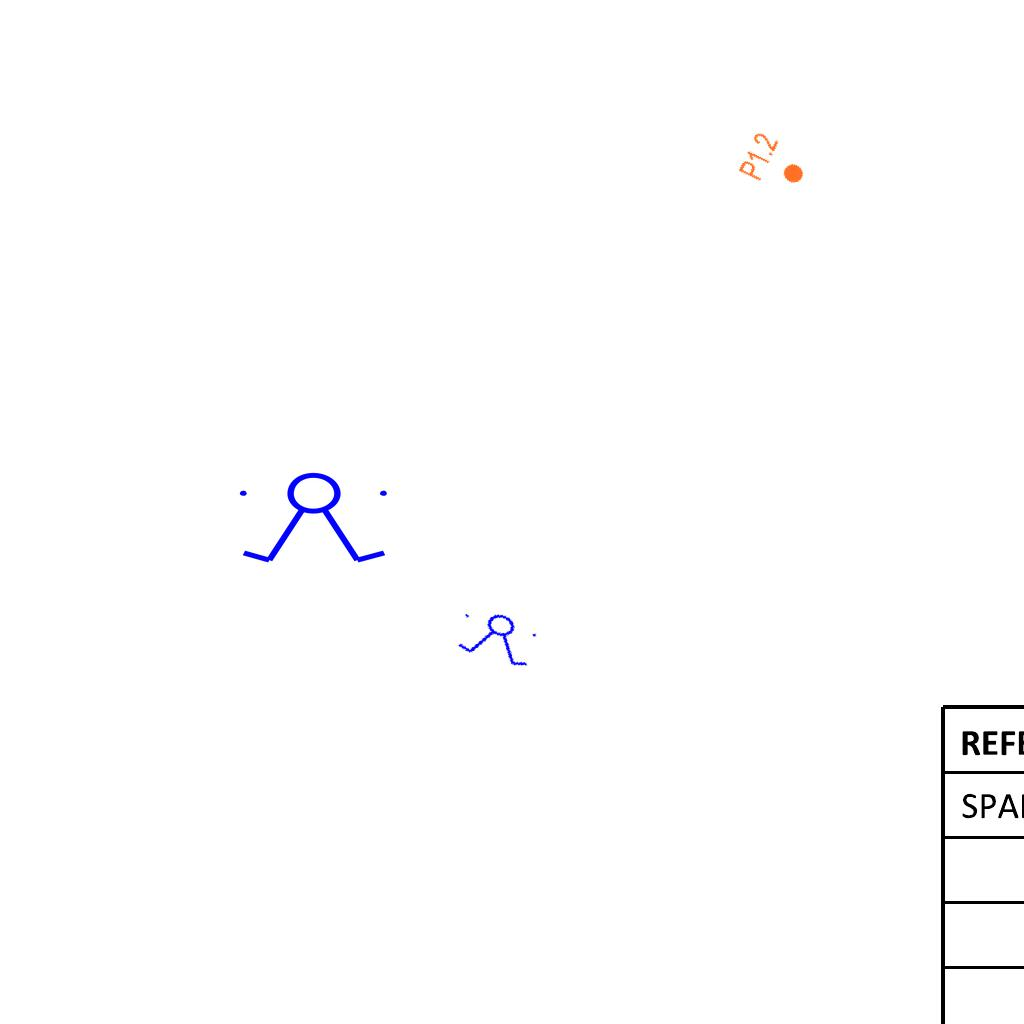Downlight_LED_Einbauleuchten_Flur: (736, 129, 814, 199)
Serienschalter: (231, 471, 399, 567), (451, 603, 545, 673)
